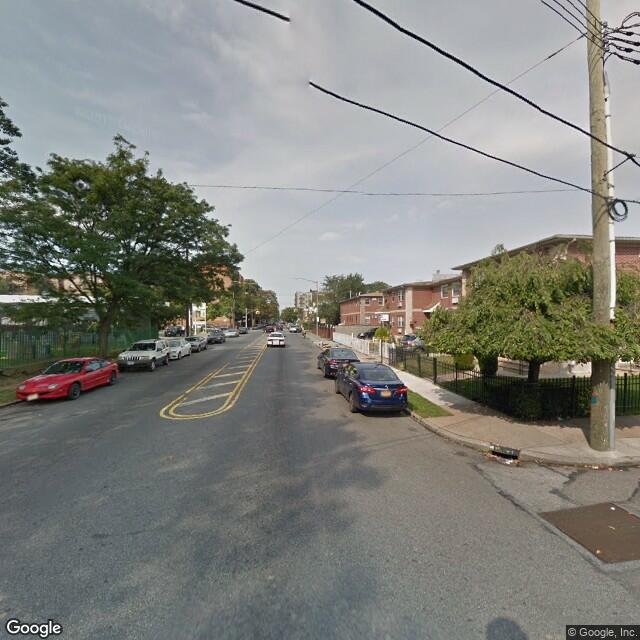litter: (505, 456, 516, 469), (593, 465, 601, 470), (582, 463, 587, 471), (607, 468, 614, 473), (559, 415, 564, 421), (598, 548, 603, 553), (609, 506, 615, 509)
